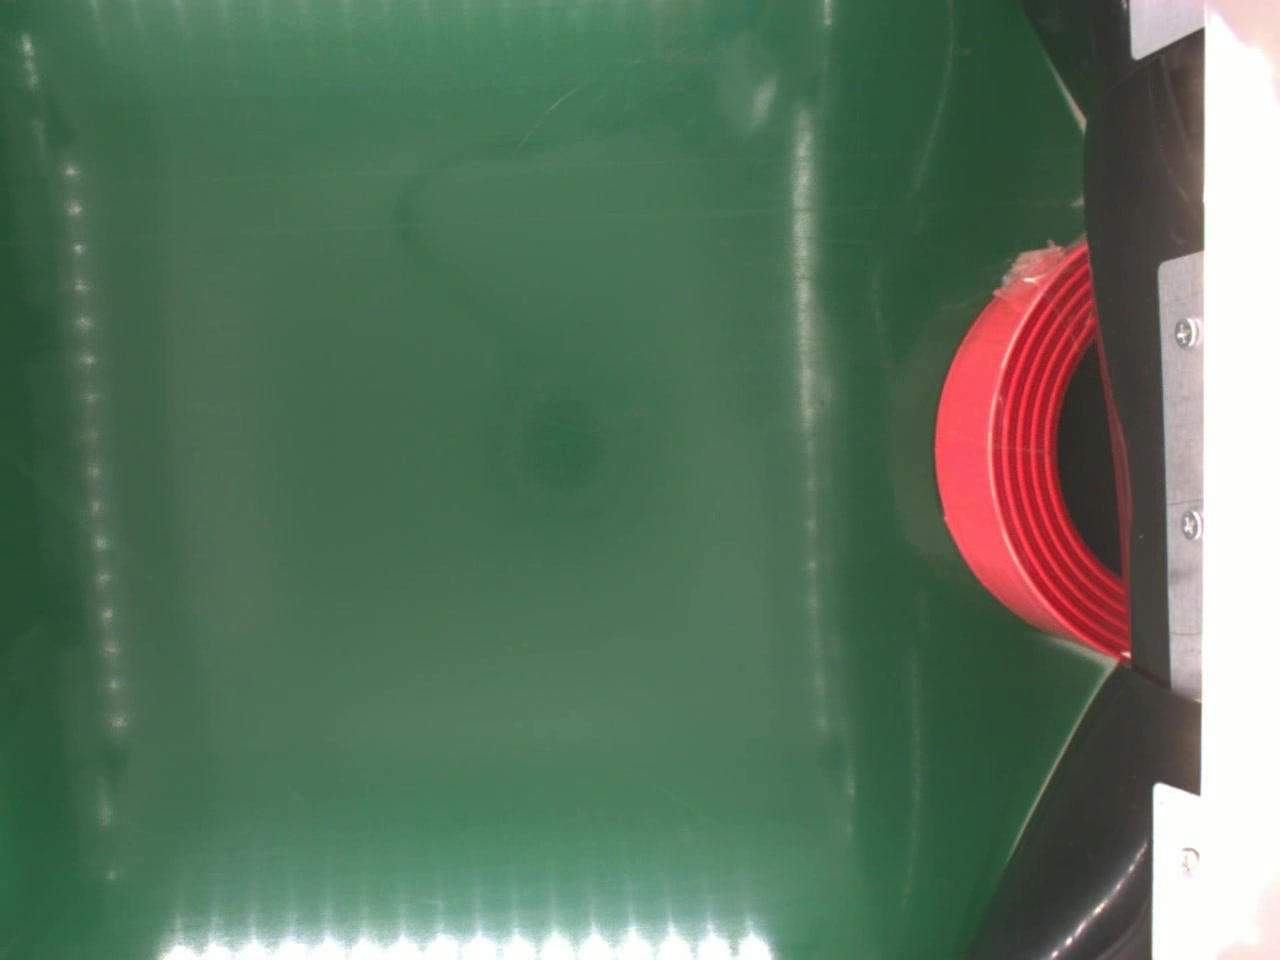red: (934, 232, 1133, 662)
